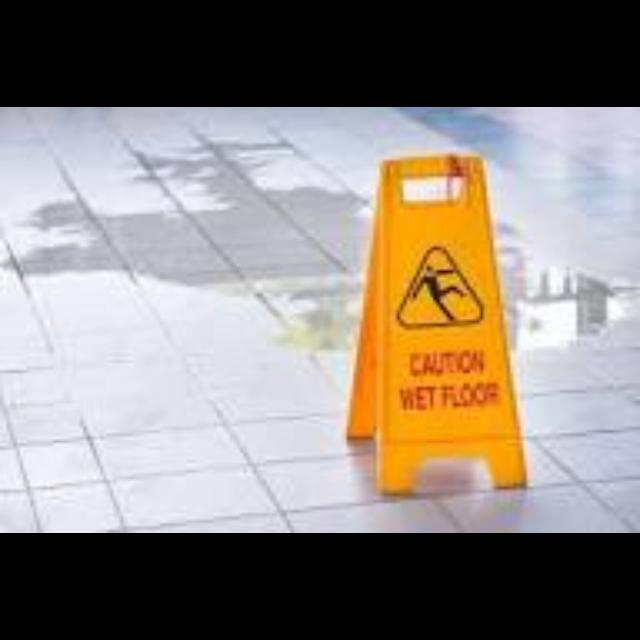slippery_floor: (347, 154, 523, 494)
